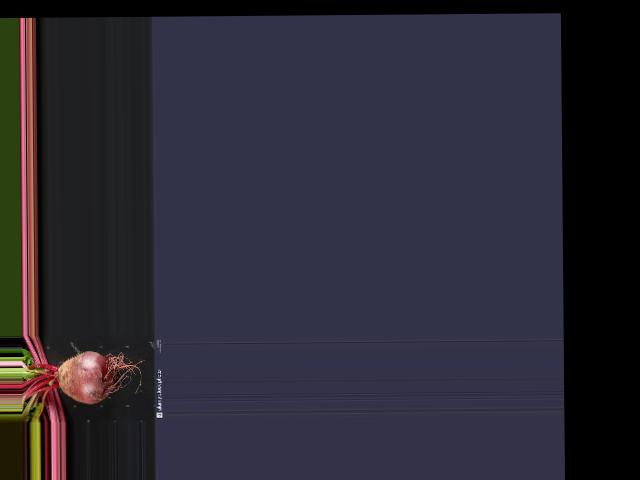beet: (21, 350, 147, 422)
